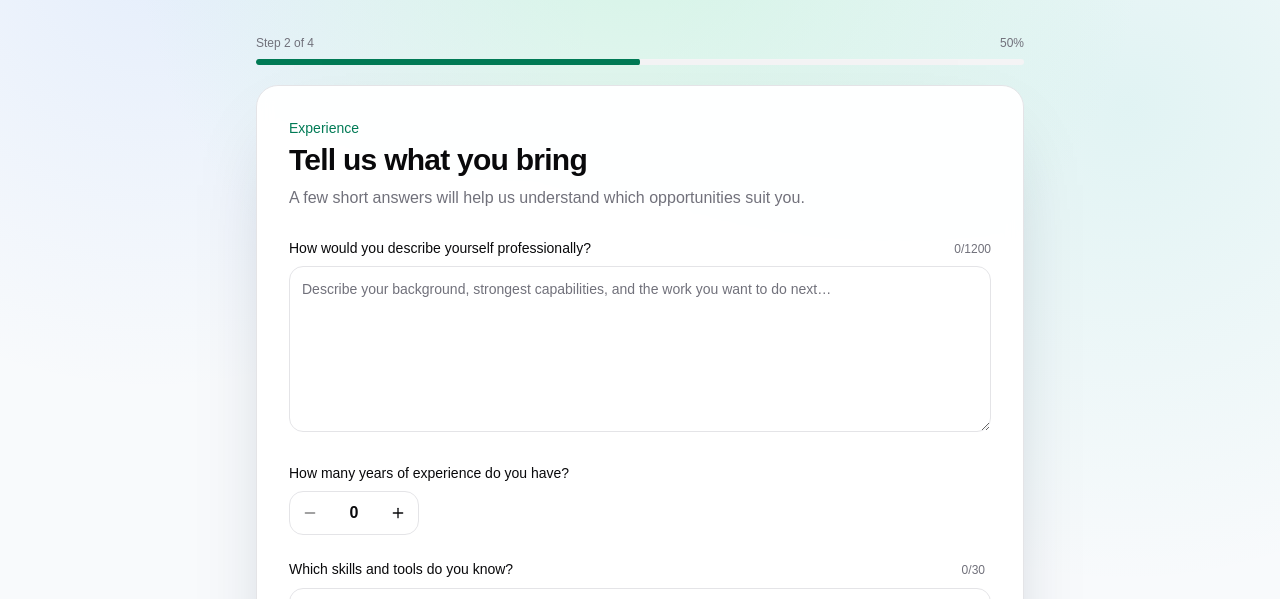
Scenario: candidate profile onboarding › uses a compact experience stepper and leaves the summary optional
expect the number field labelled "How many years of experience do you have?" holds "0": met, box x1=326 y1=497 x2=382 y2=529
Click the button named "Increase years of experience". click: [398, 513]
box: x1=382 y1=497 x2=414 y2=529
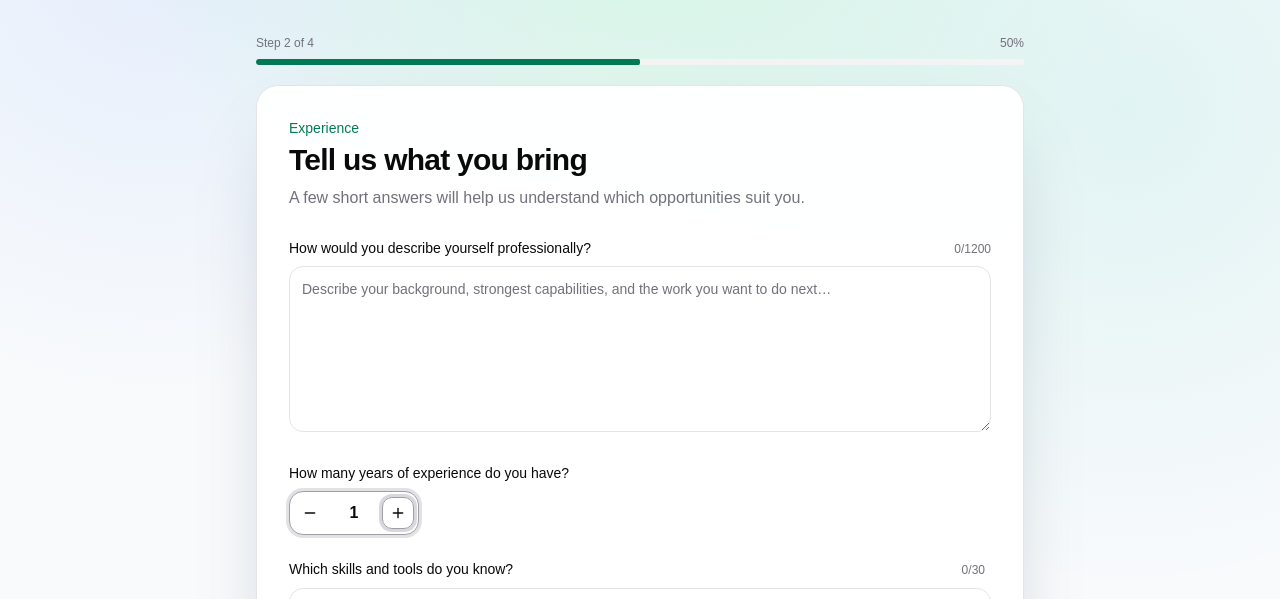
expect the number field labelled "How many years of experience do you have?" holds "1": met, box x1=326 y1=497 x2=382 y2=529
Click the button named "Decrease years of experience". click: [310, 513]
box: x1=294 y1=497 x2=326 y2=529
(page scrolled)
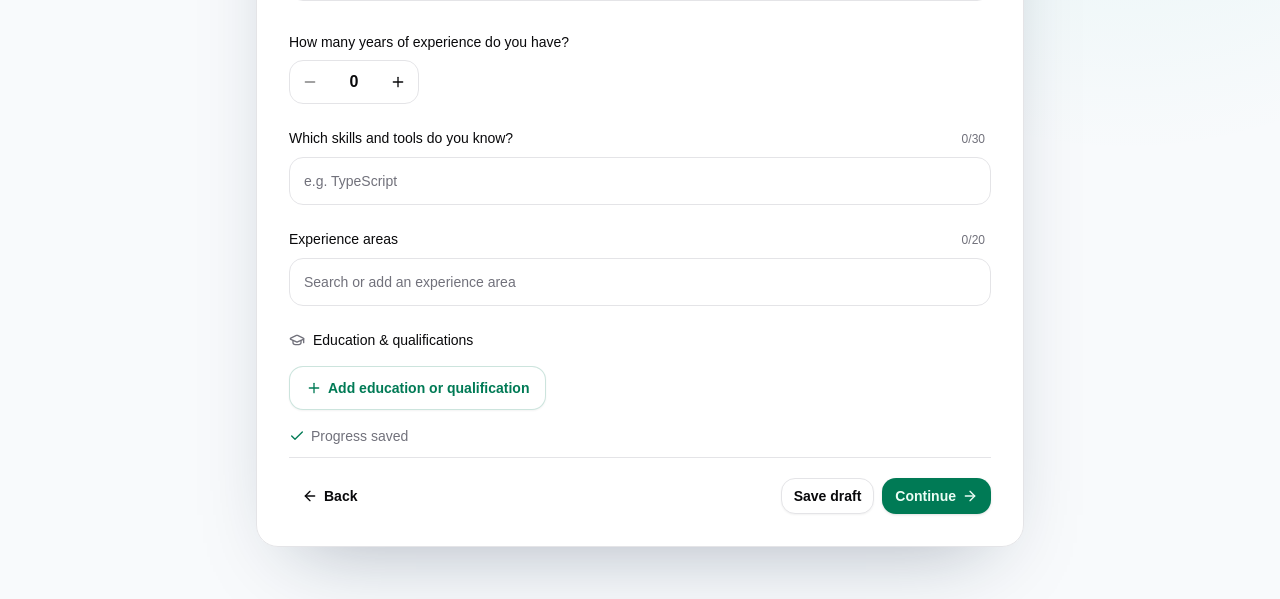
expect the number field labelled "How many years of experience do you have?" holds "0": met, box x1=326 y1=66 x2=382 y2=98
Click the button "Continue". click: [937, 496]
box: x1=882 y1=478 x2=991 y2=514
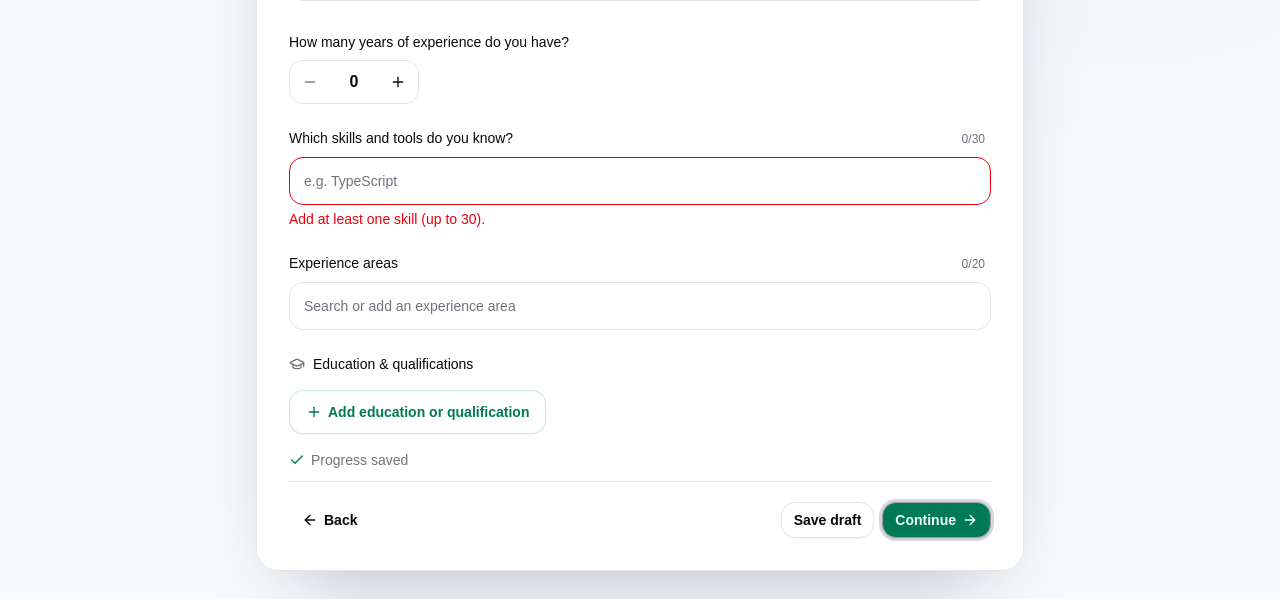
expect the text "Add at least one skill (up to 30)." is shown: met, box x1=289 y1=211 x2=485 y2=227
